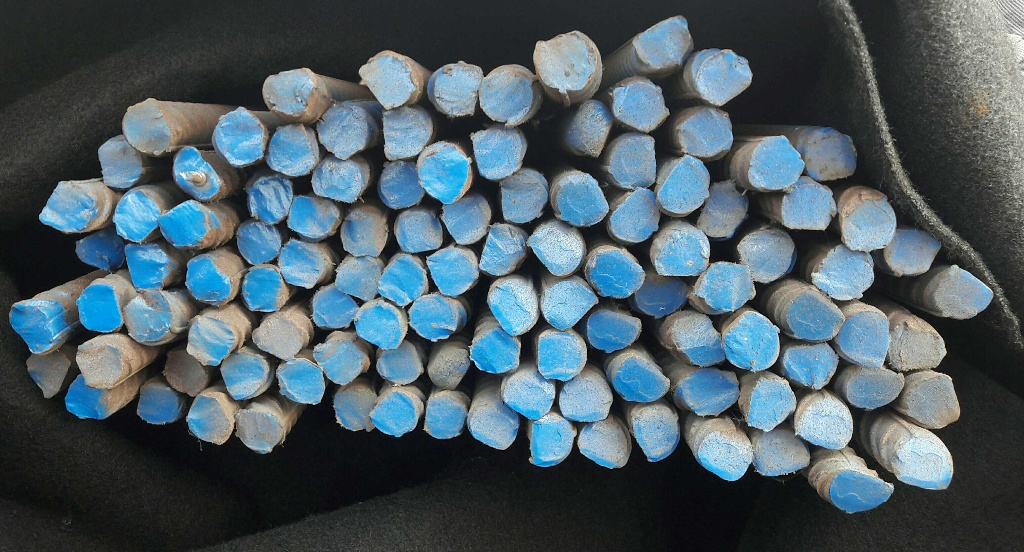dipstick: (535, 32, 595, 89), (479, 65, 539, 121), (724, 312, 779, 370), (811, 247, 873, 298), (841, 194, 894, 250), (9, 302, 69, 351), (738, 228, 793, 281), (894, 439, 952, 489), (528, 222, 582, 275), (657, 155, 709, 210), (672, 314, 727, 366), (697, 181, 747, 237), (906, 376, 959, 428), (360, 56, 414, 107), (698, 263, 754, 312), (936, 268, 993, 316), (750, 135, 802, 187), (699, 51, 750, 104), (839, 313, 890, 366), (382, 107, 432, 161), (797, 399, 852, 448), (123, 98, 171, 154), (890, 321, 946, 369), (39, 182, 95, 229), (681, 369, 738, 415), (267, 124, 318, 175), (787, 291, 840, 340), (215, 110, 263, 164), (472, 125, 519, 180), (318, 104, 367, 156), (419, 146, 468, 198), (613, 83, 665, 132), (610, 188, 658, 241), (698, 433, 751, 481), (830, 469, 890, 511), (806, 129, 856, 179), (442, 192, 491, 243), (489, 282, 537, 334), (542, 281, 594, 329), (591, 249, 643, 297), (679, 109, 732, 156), (885, 227, 939, 273), (311, 155, 363, 202), (783, 343, 837, 388), (97, 135, 143, 187), (172, 147, 218, 199), (262, 69, 315, 114), (634, 407, 679, 460), (751, 376, 796, 429), (557, 178, 607, 225), (782, 184, 832, 231), (434, 64, 480, 115), (636, 268, 687, 314), (610, 136, 655, 188), (614, 357, 667, 401), (635, 21, 689, 64), (341, 207, 388, 256), (580, 420, 629, 467), (503, 372, 553, 418), (754, 431, 807, 474), (845, 369, 903, 408), (470, 404, 518, 451), (536, 333, 583, 381), (113, 192, 159, 241), (124, 291, 170, 340), (187, 395, 232, 445), (560, 377, 611, 421), (571, 102, 613, 155), (500, 174, 546, 222), (314, 340, 363, 385), (657, 231, 706, 276), (481, 224, 524, 275), (188, 318, 234, 365), (378, 257, 424, 303), (221, 351, 265, 399), (249, 175, 293, 223), (237, 408, 282, 453), (161, 201, 207, 245), (379, 163, 425, 207), (279, 242, 322, 289), (277, 361, 325, 403), (77, 285, 121, 330), (66, 375, 112, 418), (394, 209, 442, 250), (252, 318, 302, 357), (335, 257, 379, 301), (76, 344, 121, 387), (473, 328, 518, 371), (27, 351, 69, 397), (355, 306, 401, 348), (410, 297, 456, 339), (164, 351, 207, 395), (531, 421, 573, 466), (288, 196, 339, 233), (427, 253, 473, 294), (588, 310, 640, 346), (75, 231, 124, 269), (125, 242, 167, 286), (186, 259, 229, 301), (335, 388, 377, 429), (372, 392, 414, 433), (237, 223, 280, 263), (376, 341, 419, 381), (313, 286, 355, 326), (428, 348, 470, 388), (137, 385, 181, 422), (426, 397, 465, 437), (243, 269, 281, 310)
